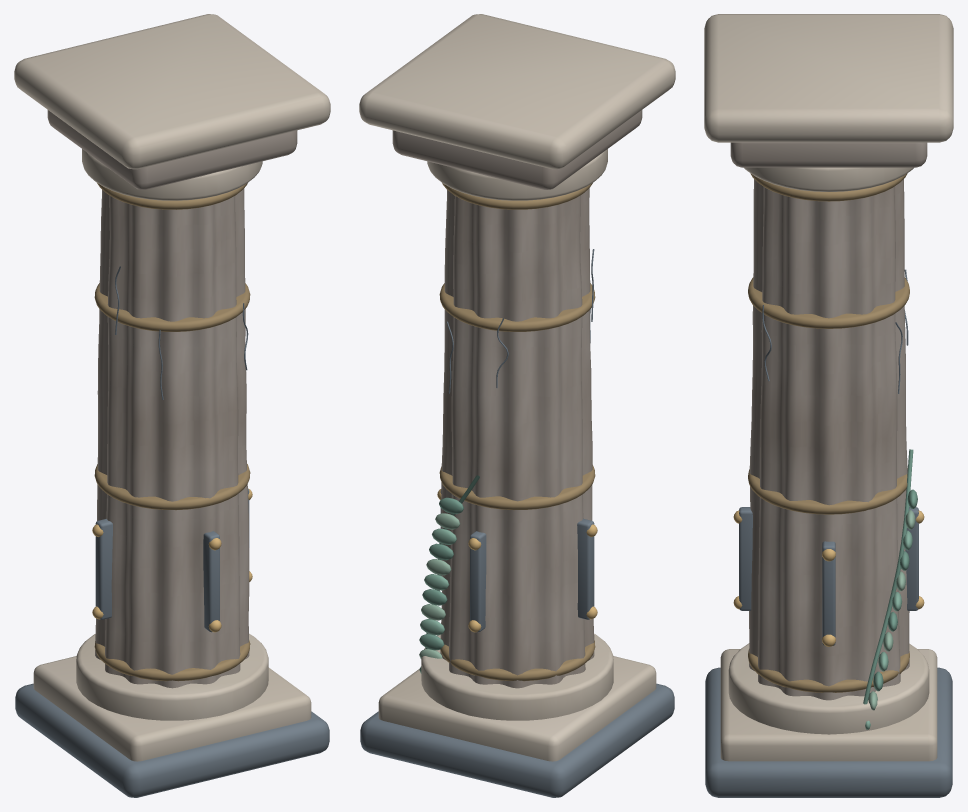
The model's file is ruin-column.glb.
3 renders of one model, left to right at view 1: azimuth 30°, elevation 25°; view 2: azimuth 150°, elevation 25°; view 3: azimuth 270°, elevation 25°, orthographic. The views are drawn at different scales.
Parts seen in each view (by area): view 1: Eroded fluted limestone shaft, Capital overhang, Layered foundation, Worn plinth, Torus base course, Capital lower, Capital neck, Narrow brass binding.002, Narrow brass binding.001, Narrow brass binding, Inset conductive panel.002, Inset conductive panel.003 (+1 smaller); view 2: Eroded fluted limestone shaft, Capital overhang, Layered foundation, Worn plinth, Torus base course, Capital lower, Capital neck, Narrow brass binding.002, Narrow brass binding.001, Narrow brass binding, Inset conductive panel.002, Inset conductive panel.001 (+1 smaller); view 3: Eroded fluted limestone shaft, Capital overhang, Layered foundation, Worn plinth, Torus base course, Capital lower, Capital neck, Narrow brass binding.002, Narrow brass binding.001, Narrow brass binding, Inset conductive panel.003, Narrow brass binding.003 (+3 smaller).
Boxes of the visible parts, x1,y1,x2,y2 form: Eroded fluted limestone shaft: [95, 188, 249, 688]; Capital overhang: [14, 14, 330, 169]; Layered foundation: [15, 683, 329, 797]; Worn plinth: [33, 656, 311, 761]; Torus base course: [76, 633, 268, 720]; Capital lower: [47, 110, 297, 189]; Capital neck: [82, 149, 262, 200]; Narrow brass binding.002: [94, 283, 250, 331]; Narrow brass binding.001: [94, 464, 250, 510]; Narrow brass binding: [94, 640, 250, 681]; Inset conductive panel.002: [95, 518, 112, 619]; Inset conductive panel.003: [203, 531, 219, 632]; Eroded fluted limestone shaft: [440, 188, 594, 688]; Capital overhang: [359, 14, 675, 169]; Layered foundation: [360, 683, 674, 797]; Worn plinth: [378, 656, 656, 761]; Torus base course: [421, 633, 613, 720]; Capital lower: [392, 110, 642, 189]; Capital neck: [427, 149, 607, 200]; Narrow brass binding.002: [439, 283, 595, 331]; Narrow brass binding.001: [439, 465, 595, 510]; Narrow brass binding: [440, 640, 595, 681]; Inset conductive panel.002: [577, 518, 594, 619]; Inset conductive panel.001: [470, 531, 486, 632]; Eroded fluted limestone shaft: [749, 179, 909, 700]; Capital overhang: [704, 14, 953, 142]; Layered foundation: [705, 667, 952, 797]; Worn plinth: [720, 649, 937, 761]; Torus base course: [728, 643, 929, 734]; Capital lower: [730, 142, 927, 167]; Capital neck: [744, 167, 913, 191]; Narrow brass binding.002: [748, 277, 909, 328]; Narrow brass binding.001: [748, 468, 907, 514]; Narrow brass binding: [748, 649, 909, 692]; Inset conductive panel.003: [739, 507, 752, 610]; Narrow brass binding.003: [750, 173, 907, 201].
Bounding box in the file's own units: 1.24 × 3.78 × 1.24.
